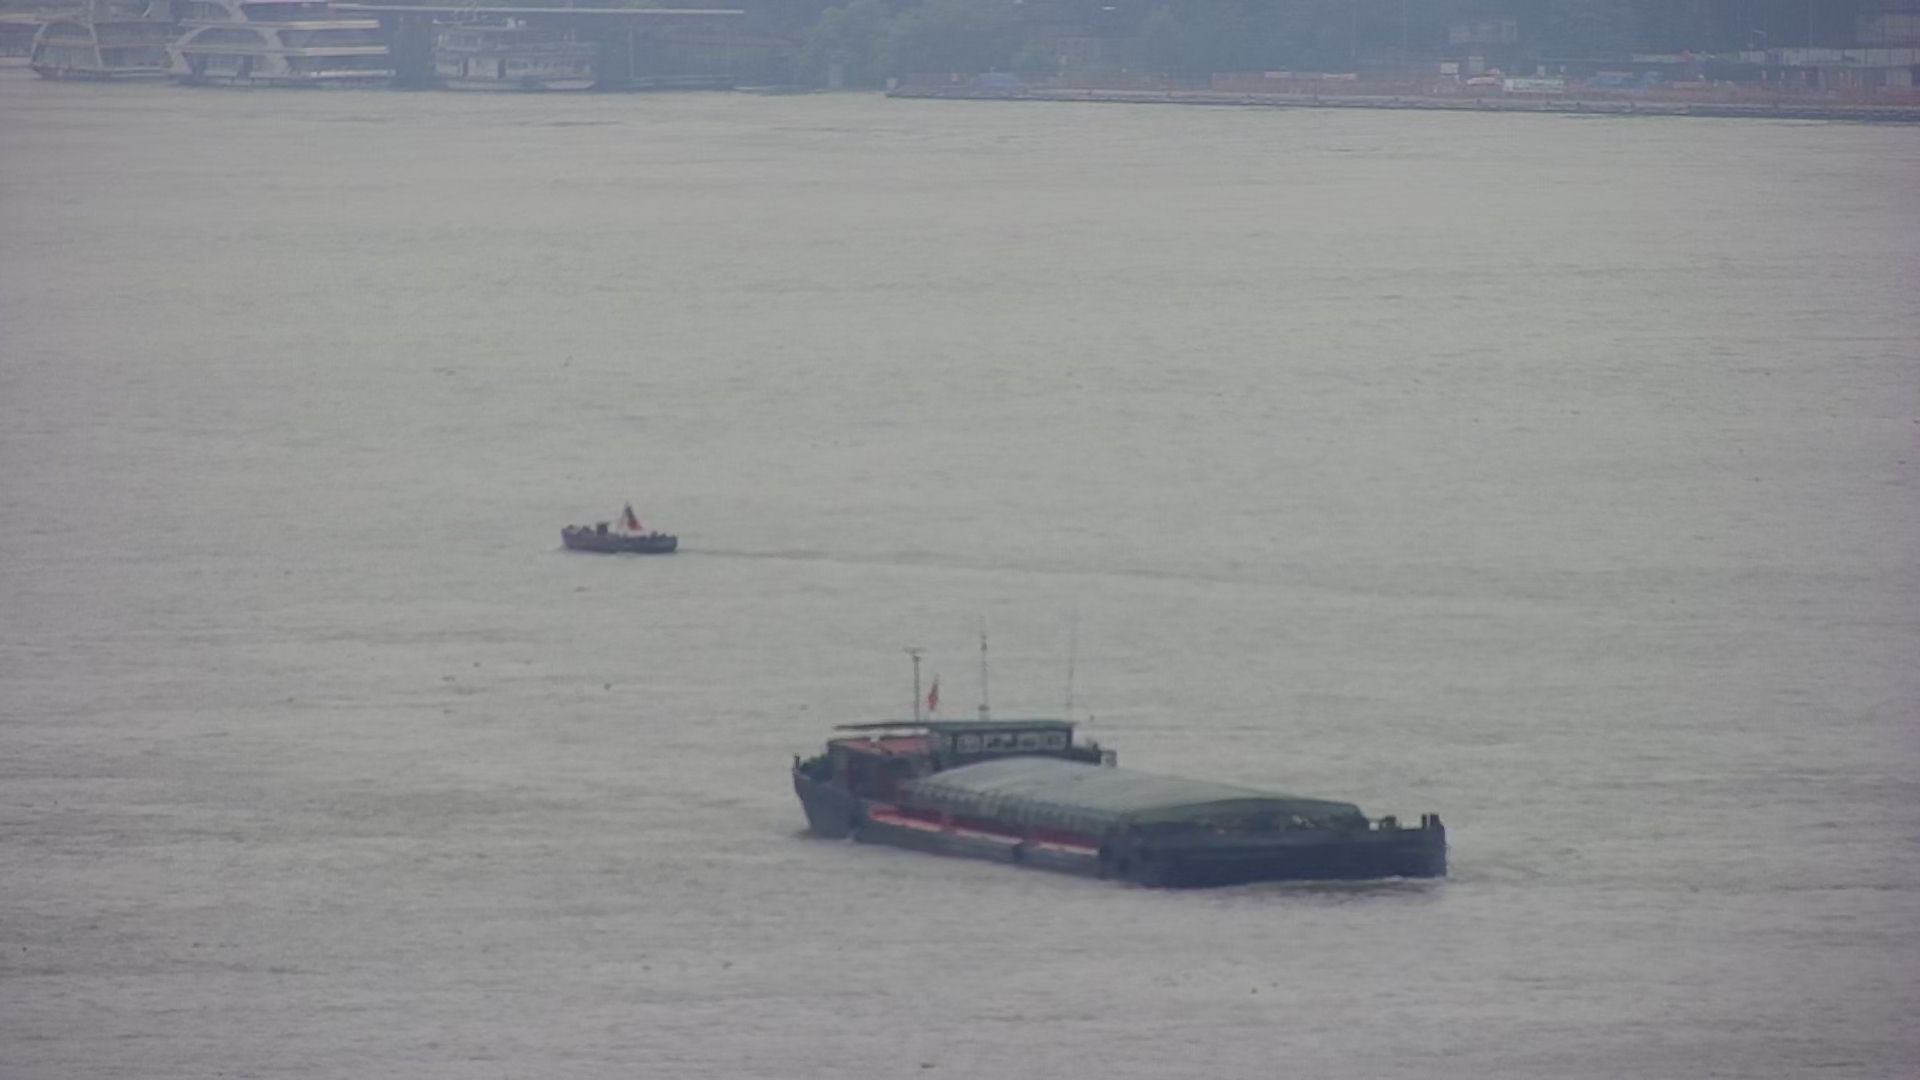boat: (553, 479, 691, 562)
ship: (767, 593, 1480, 899), (164, 7, 415, 94), (423, 12, 609, 94), (15, 1, 167, 98)
